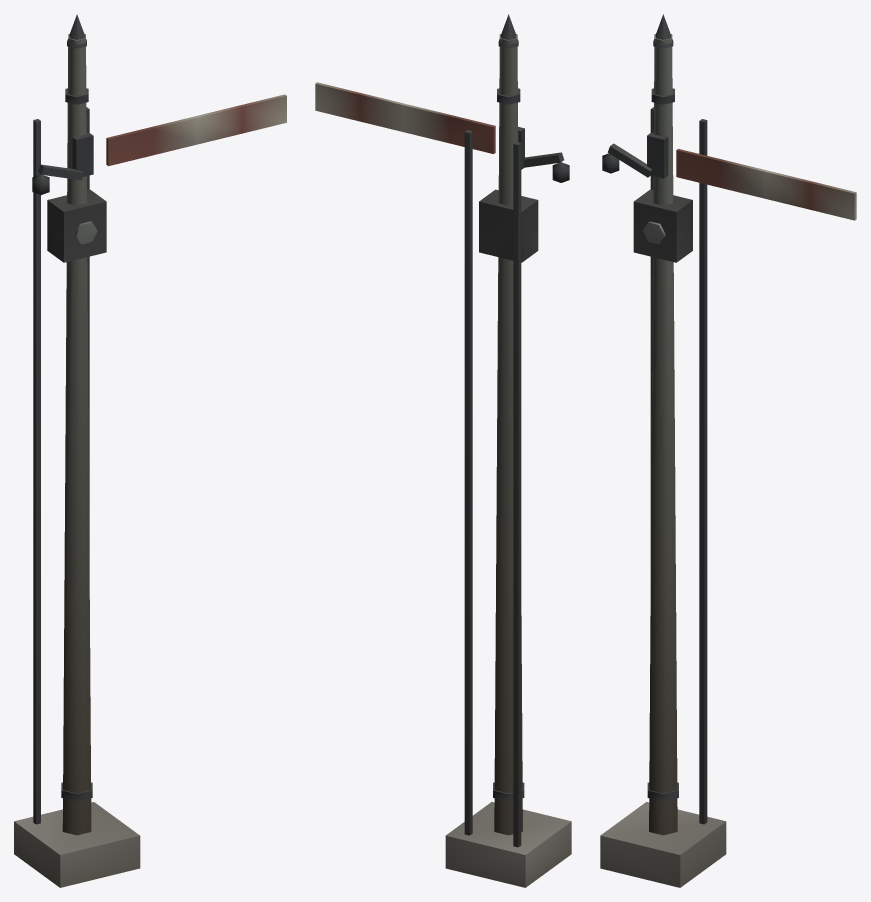
The model's file is m01_prop_semaphore_signal_lod1.glb.
The picture shows the model from 3 angles, left to right: view 1: azimuth 30°, elevation 25°; view 2: azimuth 150°, elevation 25°; view 3: azimuth 330°, elevation 25°; orthographic projection.
Visible parts, largest first — view 1: semaphore_signal; view 2: semaphore_signal; view 3: semaphore_signal.
Boxes of the visible parts, left/top/right/bottom form: semaphore_signal: left=14, top=14, right=286, bottom=887; semaphore_signal: left=315, top=14, right=571, bottom=887; semaphore_signal: left=600, top=14, right=856, bottom=887.
Bounding box in the file's own units: 1.78 × 5.67 × 0.56.
